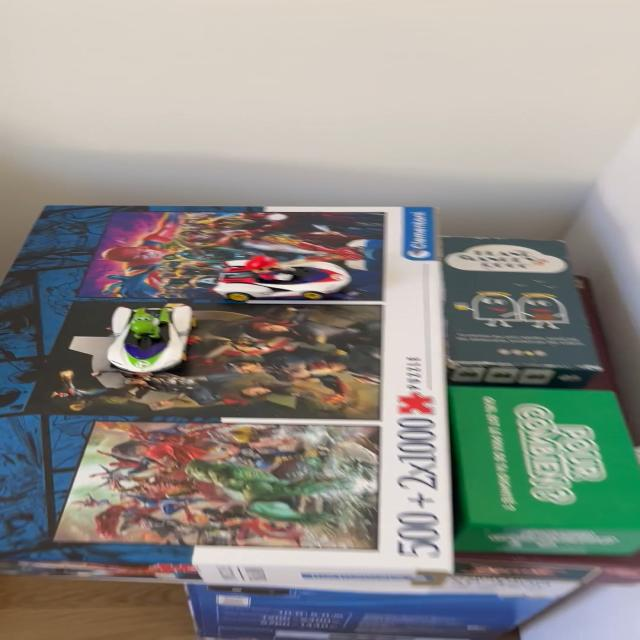mario: (210, 252, 365, 304)
yoshi: (102, 303, 201, 382)
